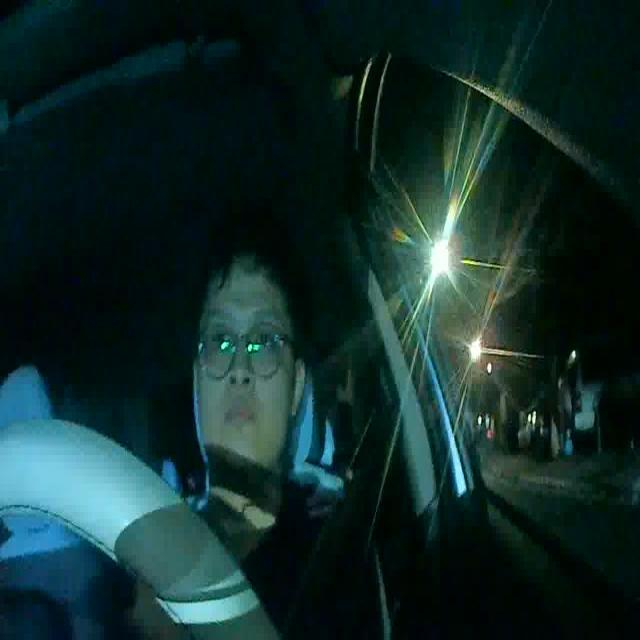Attentive: (184, 201, 329, 471)
Eye-Open: (211, 323, 236, 353), (251, 326, 276, 356)
Normal: (221, 400, 263, 437)
